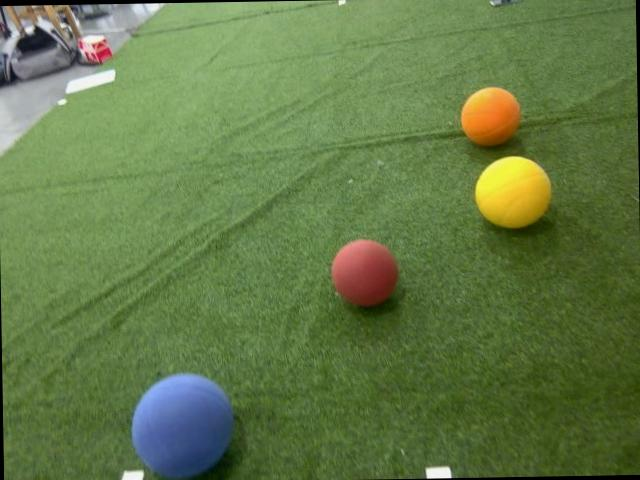blue_ball: (129, 370, 236, 480)
orange_ball: (458, 84, 523, 148)
red_ball: (332, 236, 400, 313)
yellow_ball: (474, 154, 554, 230)
